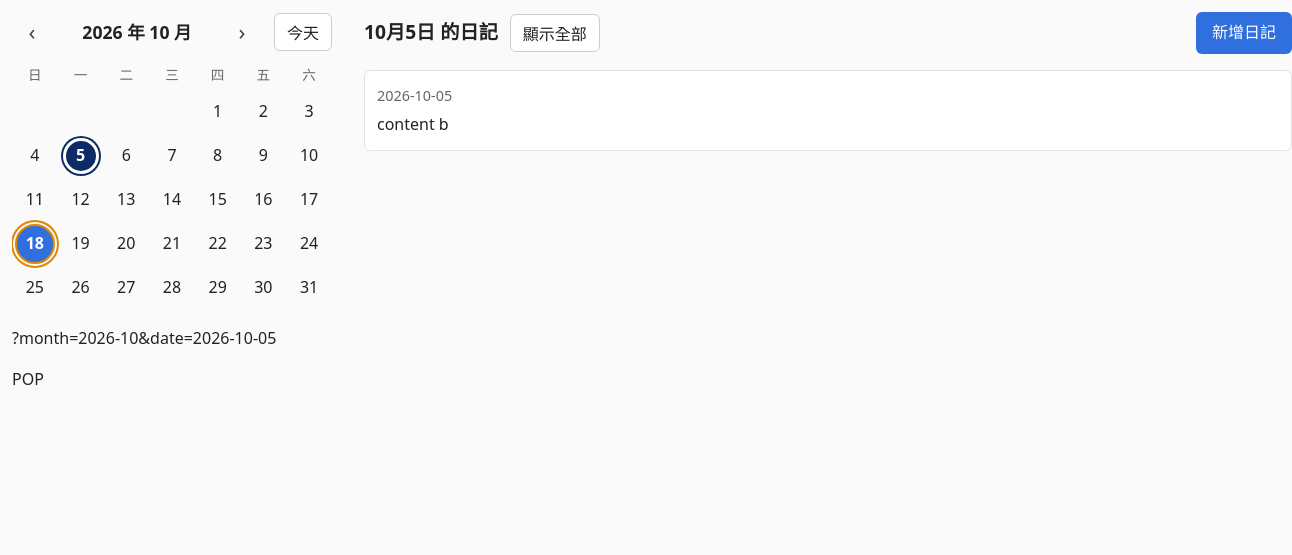
Scenario: HomePage calendar selection › clicking the selected day again shows the full list
Click the button named "10月5日，有日記" at {"x": 80, "y": 156}, box [60, 136, 100, 176]
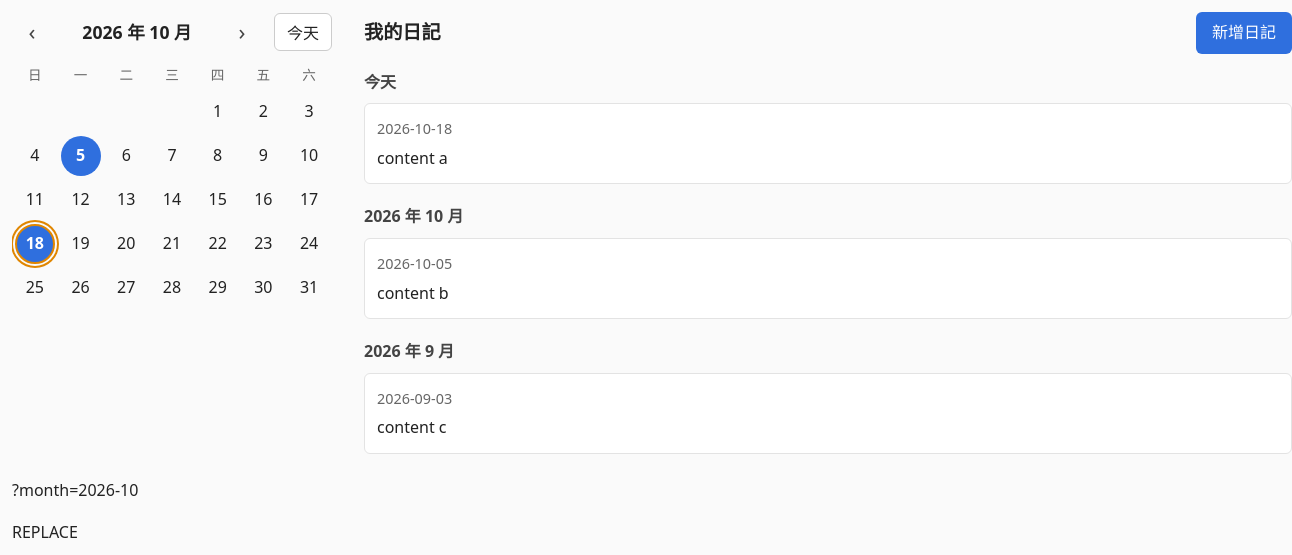
expect the text with test id "search" reads "?month=2026-10": met, box [12, 479, 138, 501]
expect the heading "我的日記" is shown: met, box [364, 17, 441, 48]
expect the number of list items is 3: met, box [364, 103, 1291, 184]; [364, 238, 1291, 319]; [364, 373, 1291, 454]
